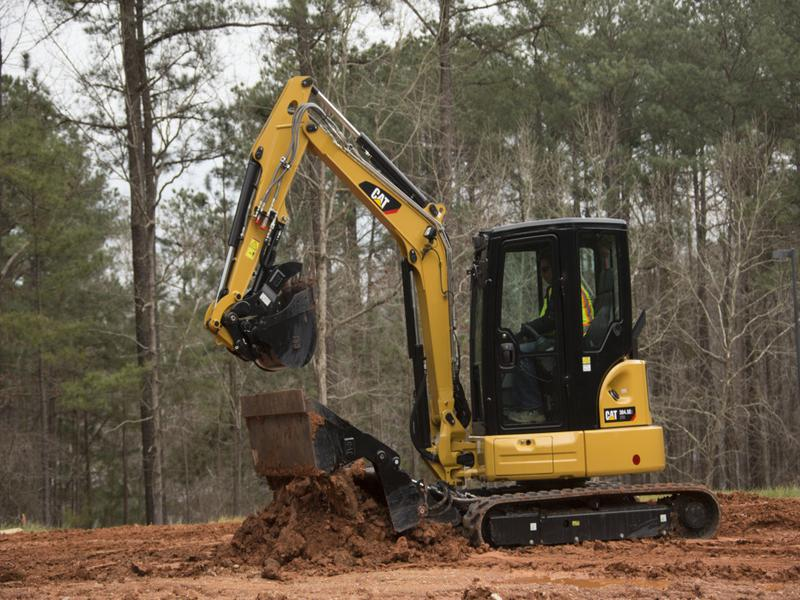shovel: (192, 70, 732, 556)
